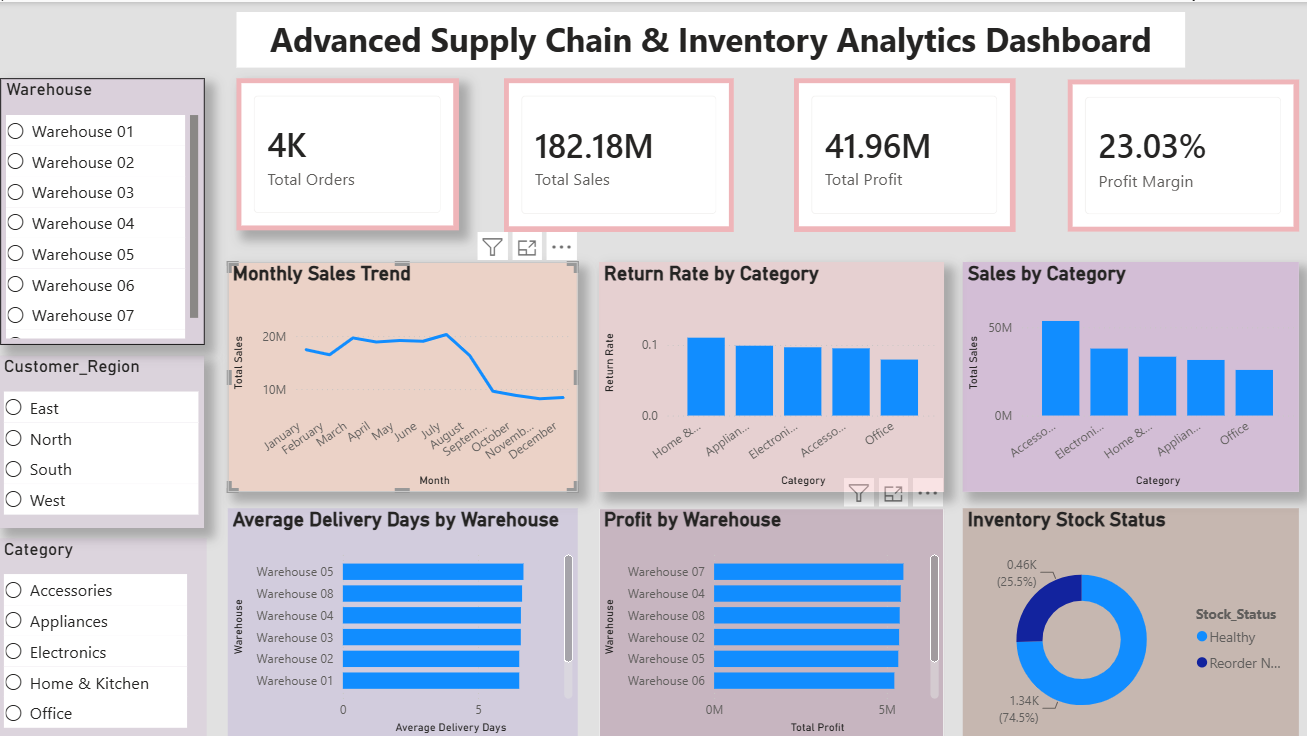

The dashboard page shown, as its layout file describes it:
{"tool":"powerbi","page":{"name":"Page 1","canvas":[1280,720],"ordinal":0},"visuals":[{"type":"textbox","box":[232.3,9.8,927.8,54.4],"z":0},{"type":"cardVisual","fields":{"Data":["Customers.Total Orders"]},"box":[232.2,74.4,217.7,149.2],"z":1000},{"type":"cardVisual","fields":{"Data":["Customers.Total Sales"]},"box":[494.4,74.4,225,150.4],"z":2000},{"type":"cardVisual","fields":{"Data":["Customers.Total Profit"]},"box":[777.8,74.4,216.4,150.4],"z":3000},{"type":"cardVisual","fields":{"Data":["Customers.Profit Margin"]},"box":[1045.6,75.6,226.2,149.2],"z":4000},{"type":"lineChart","title":"Monthly Sales Trend","fields":{"Y":["Customers.Total Sales"],"Category":["Orders.Order_Date.Variation.Date Hierarchy.Month"]},"box":[223.8,254.3,342.4,225],"z":5000},{"type":"clusteredColumnChart","title":"Sales by Category","fields":{"Category":["Products.Category"],"Y":["Customers.Total Sales"]},"box":[942.8,254.3,328.9,225],"z":6000},{"type":"clusteredBarChart","title":"Profit by Warehouse","fields":{"Category":["Warehouses.Warehouse"],"Y":["Customers.Total Profit"]},"box":[587,495.2,337.5,225],"z":7000},{"type":"clusteredColumnChart","fields":{"Category":["Products.Category"],"Y":["Customers.Return Rate"]},"box":[587,254.3,337.5,225],"z":8000},{"type":"clusteredBarChart","fields":{"Category":["Warehouses.Warehouse"],"Y":["Customers.Average Delivery Days"]},"box":[223.8,495.2,342.4,225],"z":8001},{"type":"donutChart","title":"Inventory Stock Status","fields":{"Category":["Inventory.Stock_Status"],"Y":["CountNonNull(Inventory.Product_ID)"]},"box":[942.8,495.2,328.9,225],"z":8002},{"type":"listSlicer","fields":{"Values":["Customers.Customer_Region"]},"box":[0,346.1,200.5,168.8],"z":8003},{"type":"listSlicer","fields":{"Values":["Products.Category"]},"box":[0,524.6,203,195.7],"z":8004},{"type":"listSlicer","fields":{"Values":["Warehouses.Warehouse"]},"box":[1.1,74.4,200,261.1],"z":8005}]}

Visuals, with their boxes in screenshot pixels (x1, y1, x2, y2), scaled from the page's 1280x720 canvas onto the 1307x736 screenshot:
textbox: x1=237, y1=10, x2=1185, y2=66
cardVisual - Customers.Total Orders: x1=237, y1=76, x2=459, y2=229
cardVisual - Customers.Total Sales: x1=505, y1=76, x2=735, y2=230
cardVisual - Customers.Total Profit: x1=794, y1=76, x2=1015, y2=230
cardVisual - Customers.Profit Margin: x1=1068, y1=77, x2=1299, y2=230
"Monthly Sales Trend" lineChart: x1=229, y1=260, x2=578, y2=490
"Sales by Category" clusteredColumnChart: x1=963, y1=260, x2=1299, y2=490
"Profit by Warehouse" clusteredBarChart: x1=599, y1=506, x2=944, y2=735
clusteredColumnChart - Products.Category x Customers.Return Rate: x1=599, y1=260, x2=944, y2=490
clusteredBarChart - Warehouses.Warehouse x Customers.Average Delivery Days: x1=229, y1=506, x2=578, y2=735
"Inventory Stock Status" donutChart: x1=963, y1=506, x2=1299, y2=735
listSlicer - Customers.Customer_Region: x1=0, y1=354, x2=205, y2=526
listSlicer - Products.Category: x1=0, y1=536, x2=207, y2=735
listSlicer - Warehouses.Warehouse: x1=1, y1=76, x2=205, y2=343
